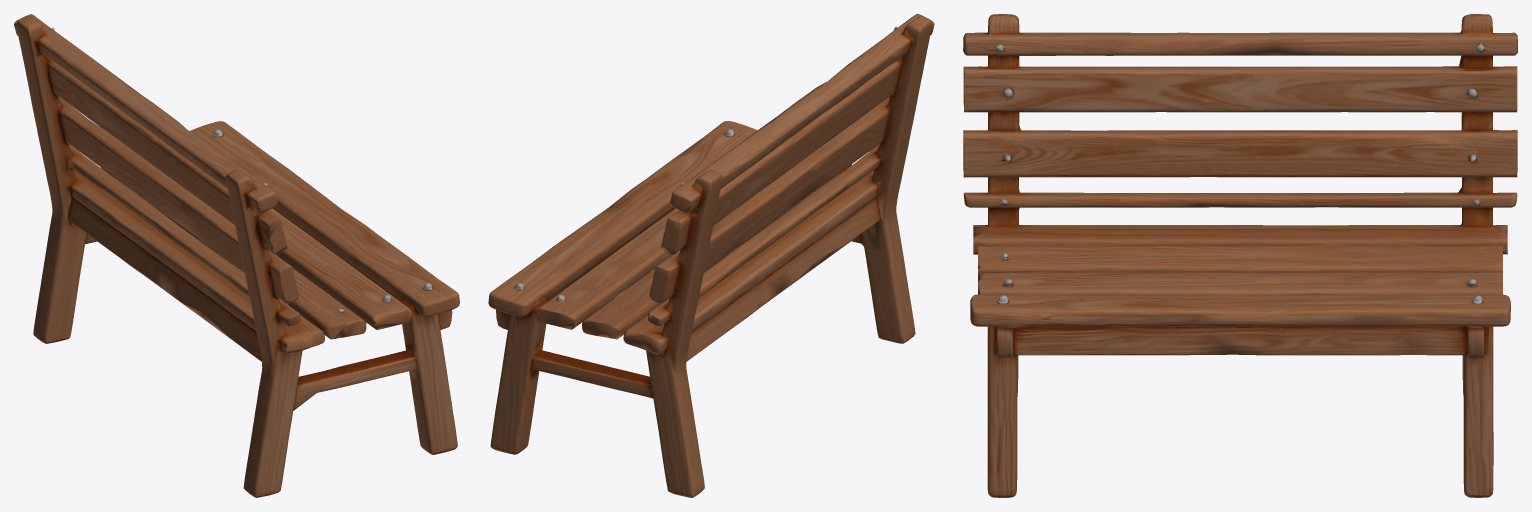
3 views of the same model, side by side, from view 1: azimuth 30°, elevation 25°; view 2: azimuth 150°, elevation 25°; view 3: azimuth 270°, elevation 25° (orthographic). The views are drawn at different scales.
Visible parts, largest first — view 1: tripo_node_3a56625b-36b8-4059-a082-14bc125ed344_0; view 2: tripo_node_3a56625b-36b8-4059-a082-14bc125ed344_0; view 3: tripo_node_3a56625b-36b8-4059-a082-14bc125ed344_0.
Boxes of the visible parts, x1=… form: tripo_node_3a56625b-36b8-4059-a082-14bc125ed344_0: x1=14, y1=14, x2=459, y2=497; tripo_node_3a56625b-36b8-4059-a082-14bc125ed344_0: x1=488, y1=14, x2=934, y2=497; tripo_node_3a56625b-36b8-4059-a082-14bc125ed344_0: x1=963, y1=14, x2=1517, y2=497.
Bounding box in the file's own units: 0.5202 × 0.7312 × 0.9999.
Materials: 1 (1 with a texture image).
